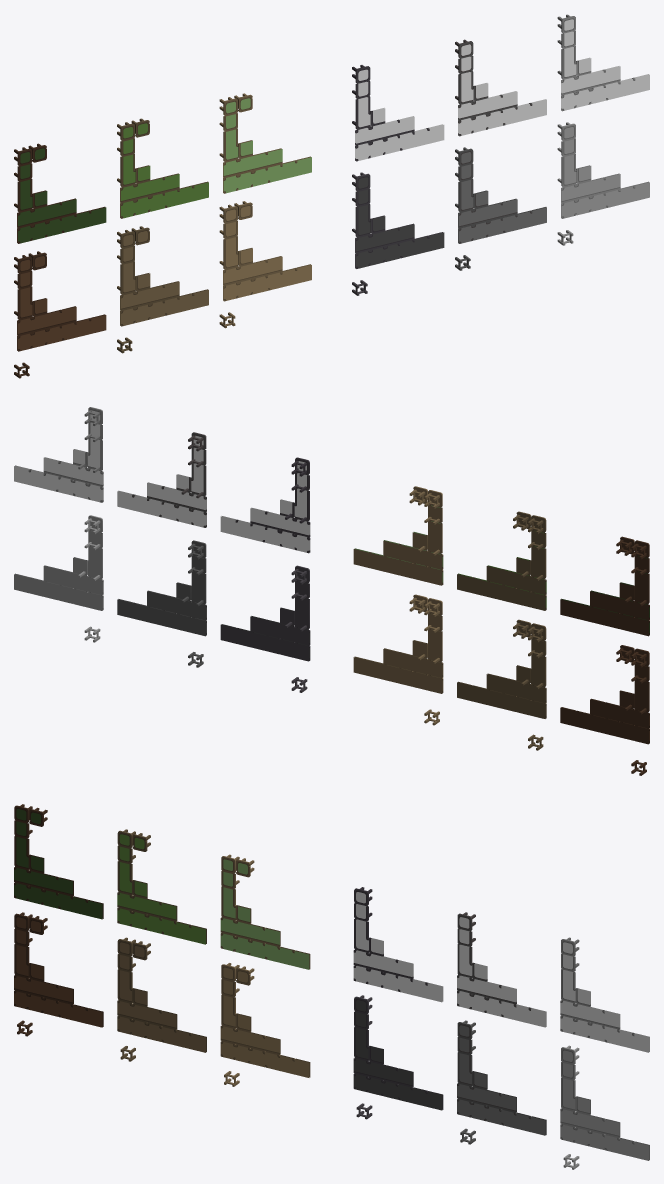
The model's file is tables.glb.
The picture shows the model from 3 angles, top to bottom: view 1: azimuth 30°, elevation 25°; view 2: azimuth 150°, elevation 25°; view 3: azimuth 330°, elevation 25°; orthographic projection.
Bounding box in the file's own units: 43 × 14.78 × 0.7395.
Materials: 2 (1 with a texture image).
